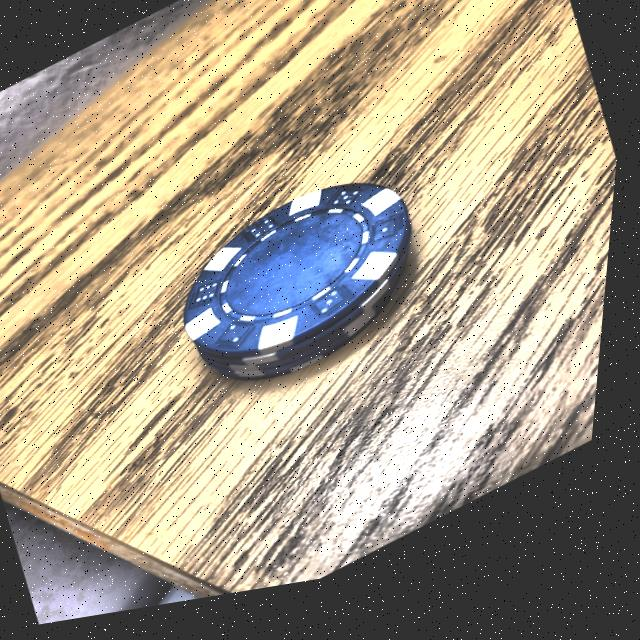Chip: (127, 108, 495, 469)
